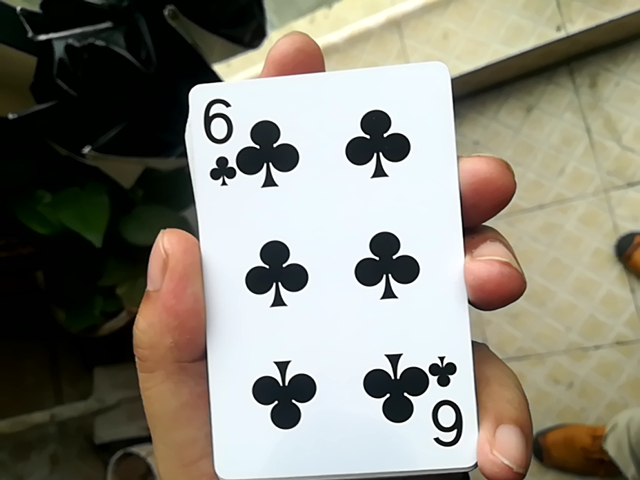mh 6: (172, 54, 475, 471)
